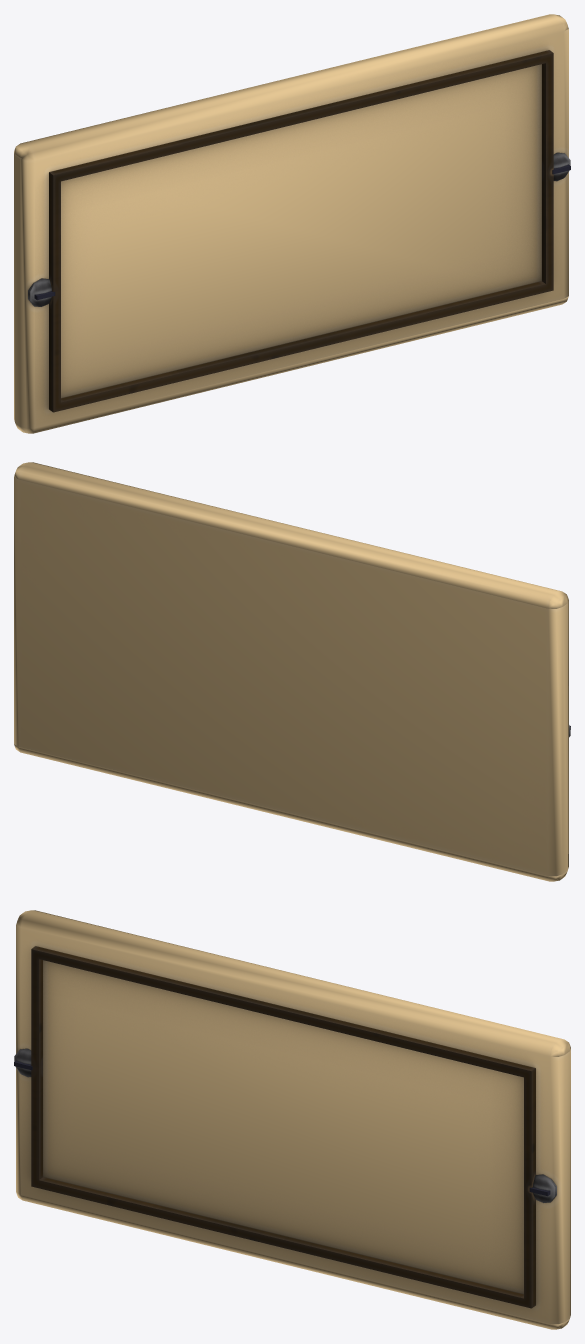
The model's file is RoomNumberPlateBlank.fbx.
3 views of the same model, one above another, from view 1: azimuth 30°, elevation 25°; view 2: azimuth 150°, elevation 25°; view 3: azimuth 330°, elevation 25° (orthographic).
Parts seen in each view (by area): view 1: RoomNumberPlateBlank; view 2: RoomNumberPlateBlank; view 3: RoomNumberPlateBlank.
Boxes of the visible parts, box(x1,y1,x2,y2) form: RoomNumberPlateBlank: box(14, 14, 570, 433); RoomNumberPlateBlank: box(14, 462, 570, 881); RoomNumberPlateBlank: box(14, 910, 570, 1329).
Size of the model in its own units: 120 by 60 by 7.8.
